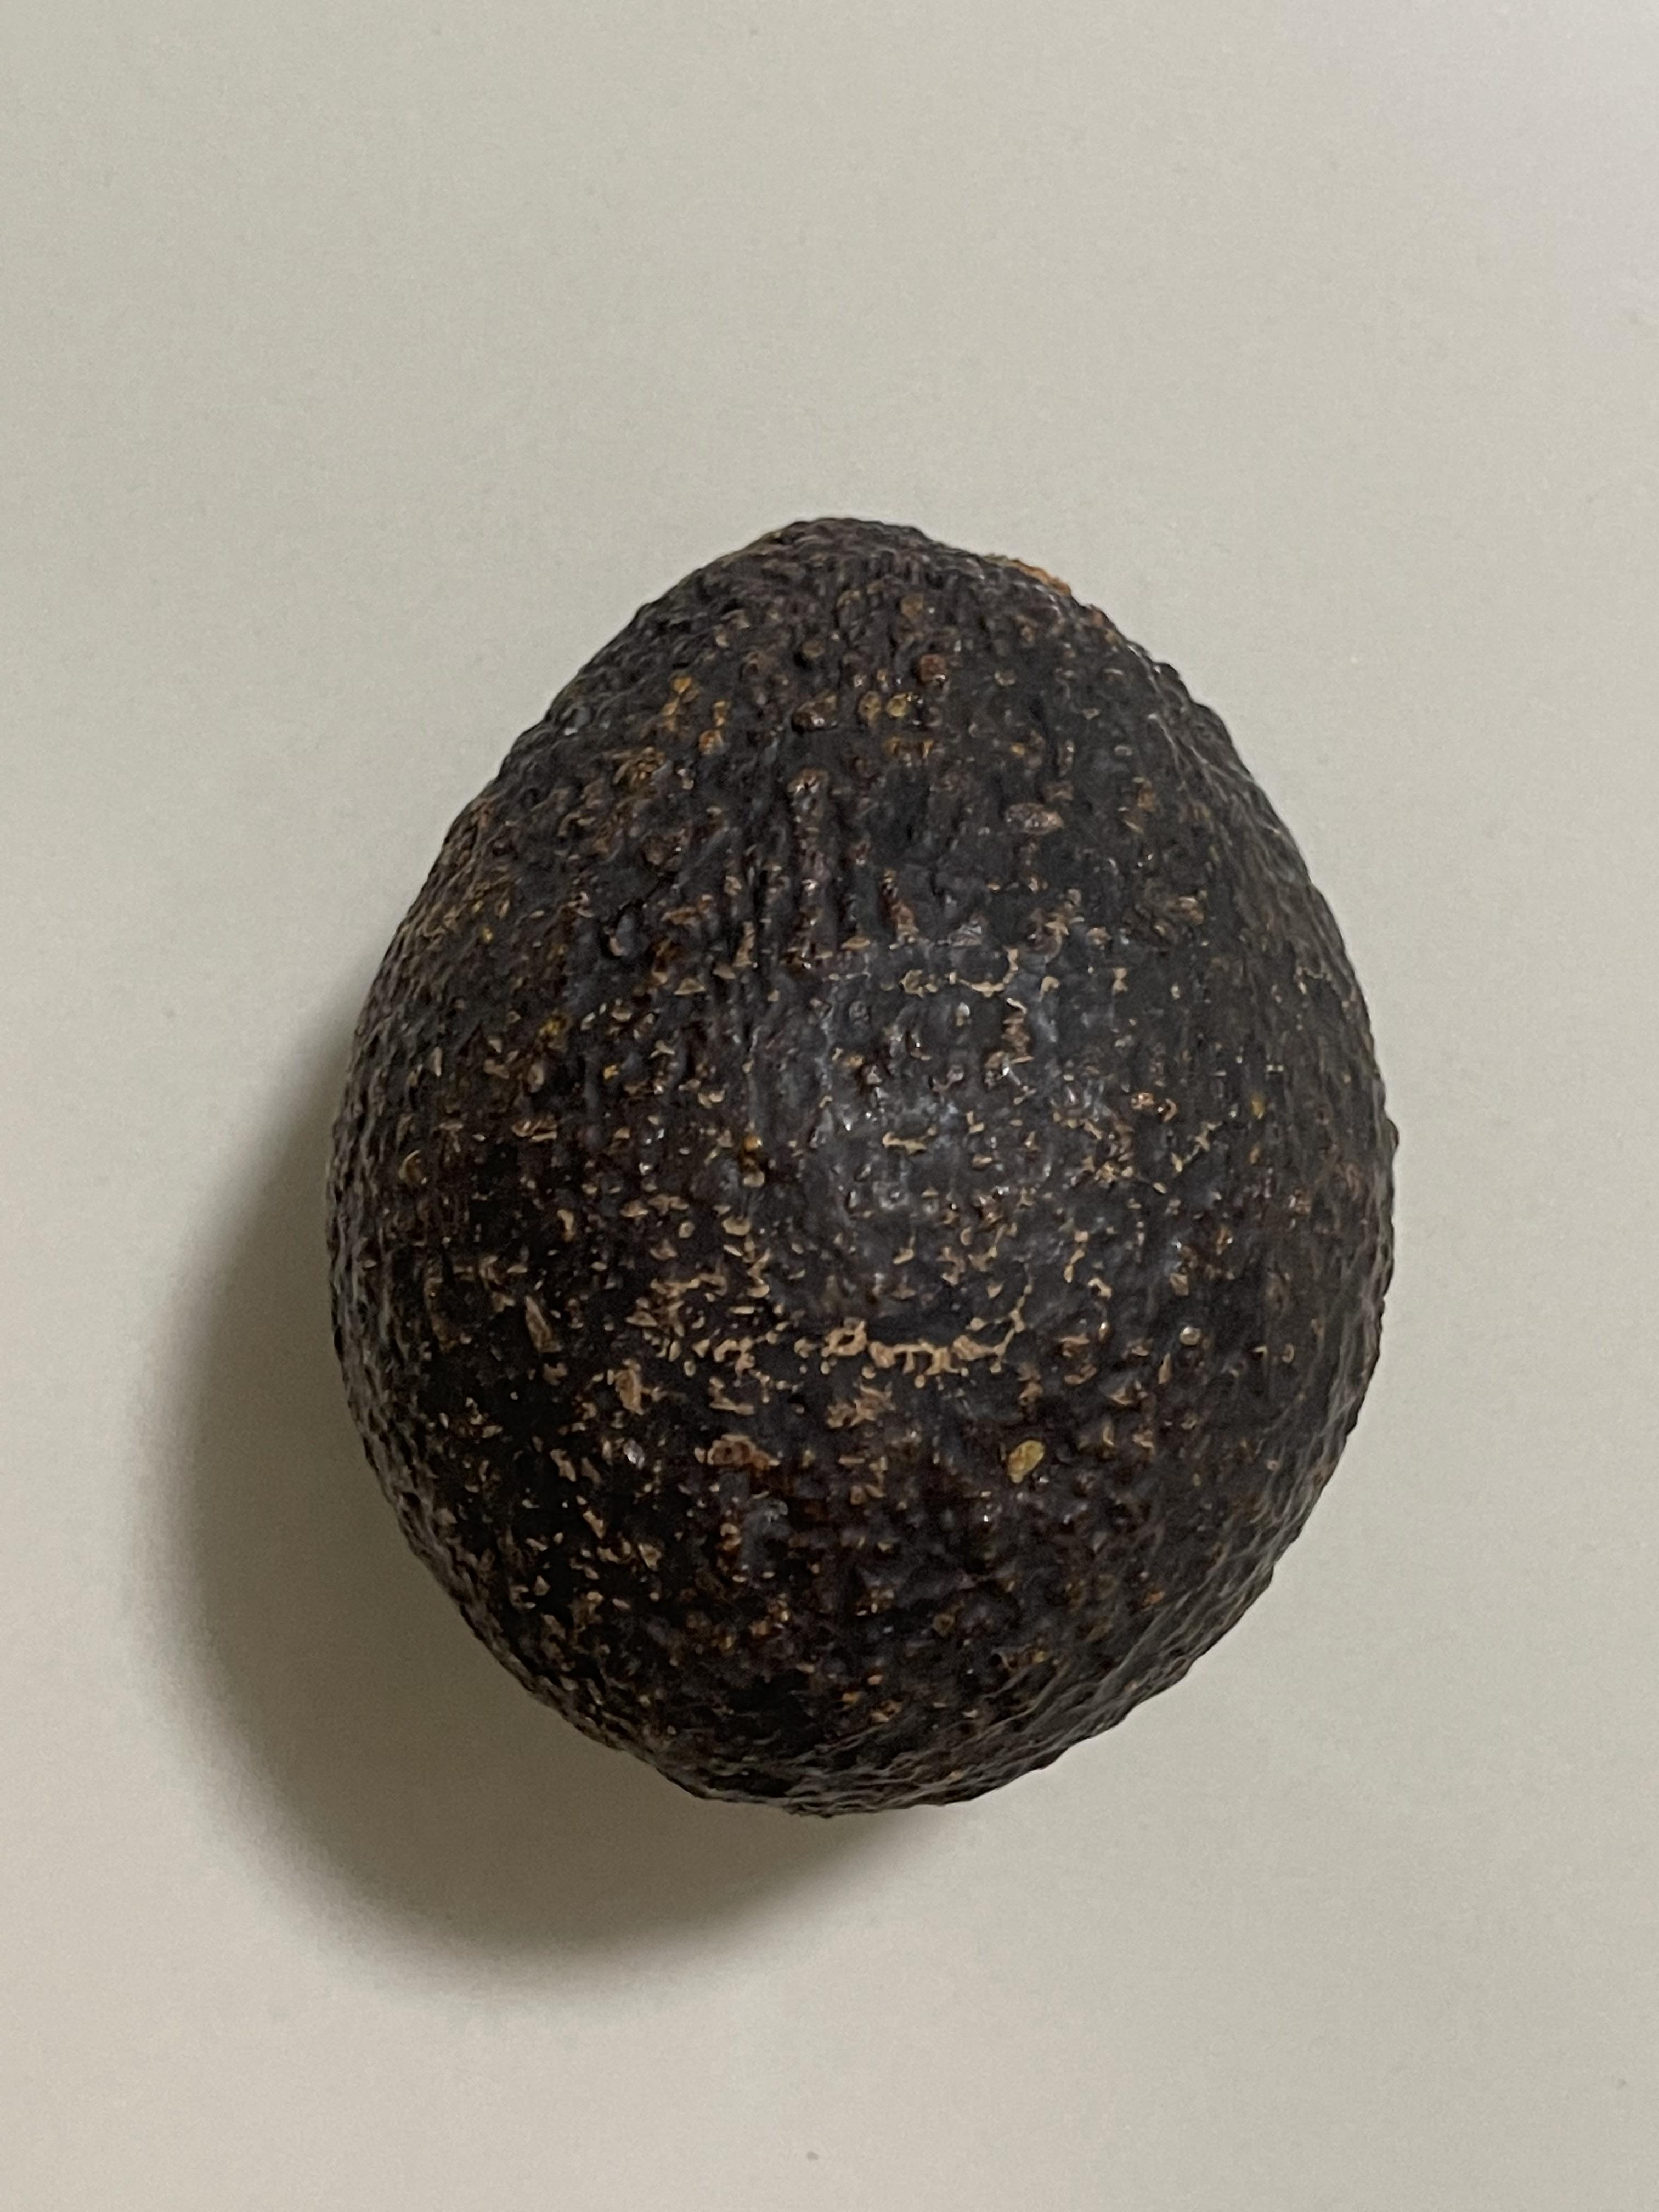Level3: (291, 482, 1424, 1843)
